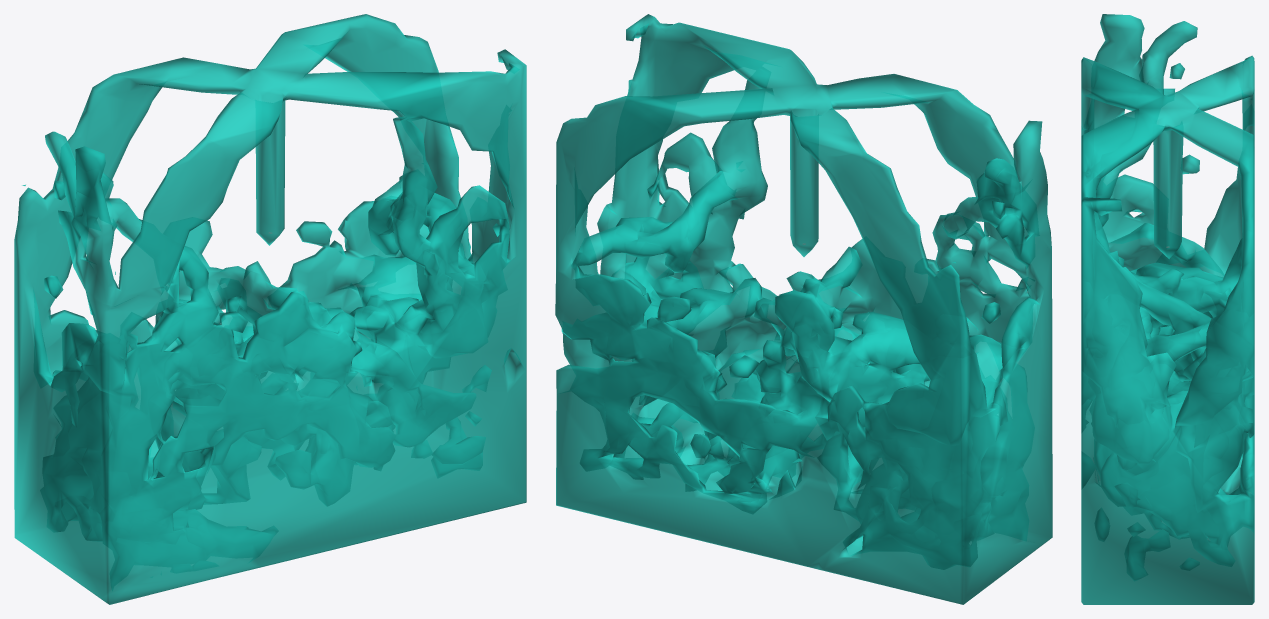
3 views of the same model, side by side, from view 1: azimuth 30°, elevation 25°; view 2: azimuth 150°, elevation 25°; view 3: azimuth 270°, elevation 25° (orthographic). The views are drawn at different scales.
Visible parts, largest first — view 1: Liquid_Domain; view 2: Liquid_Domain; view 3: Liquid_Domain.
Boxes of the visible parts, <box> form: Liquid_Domain: <box>14,14,526,604</box>; Liquid_Domain: <box>555,14,1052,604</box>; Liquid_Domain: <box>1081,14,1254,604</box>.
Size of the model in its own units: 884 by 884 by 345.
